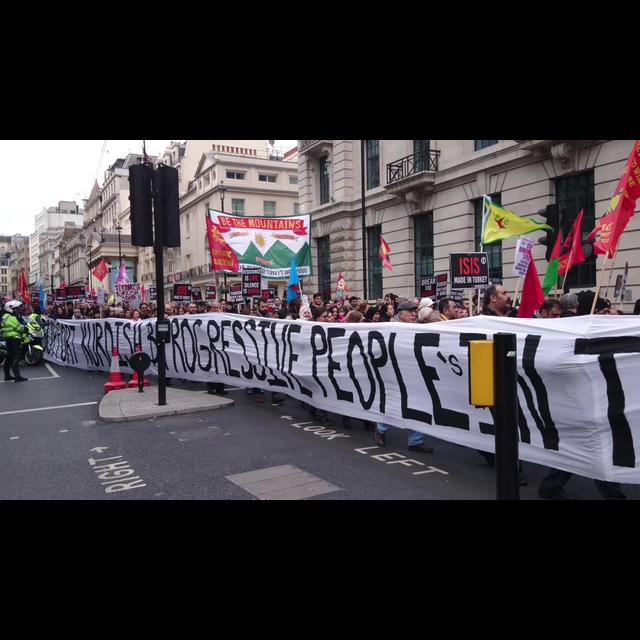YPG: (484, 206, 517, 239)
